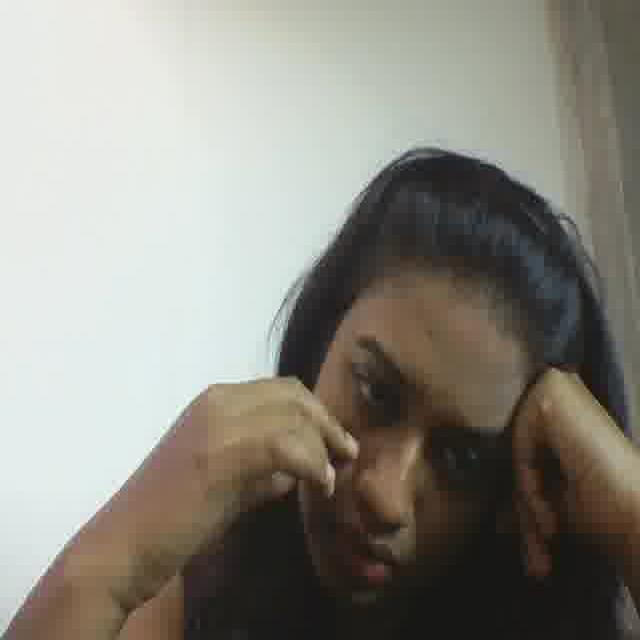Boredom: (303, 264, 511, 629)
